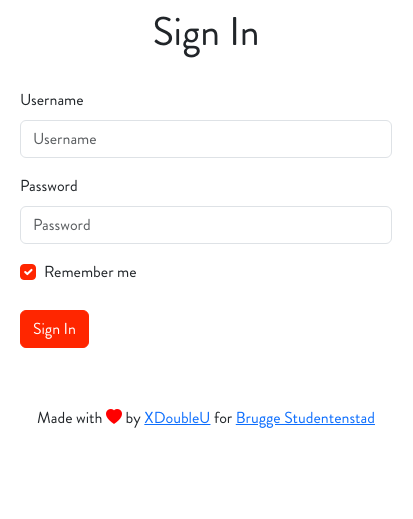
Test: SignIn (page) › Performs a non-successful signin
In the field labelled "Username": (206, 139) 20,120 -> 392,158, type "invalidusername"
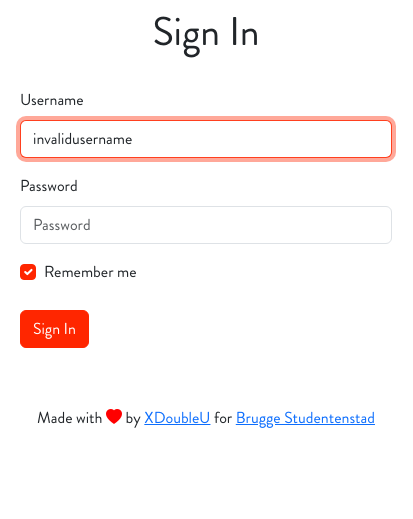
In the password field labelled "Password": (206, 225) 20,206 -> 392,244, type "invalidpassword"
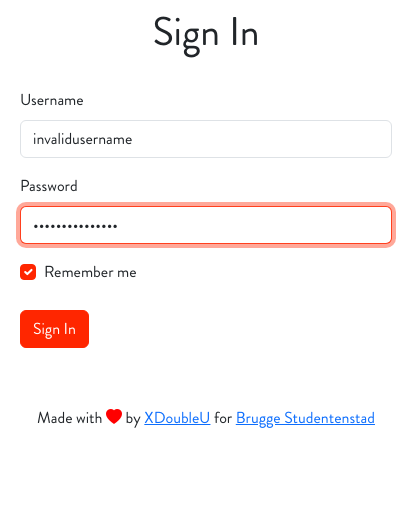
Click the button "Sign In": (54, 329) 20,310 -> 89,348
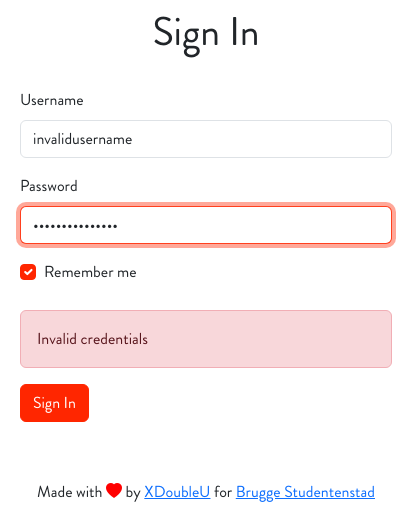
expect the message reads "Invalid credentials": met, box 37,327 -> 148,350
